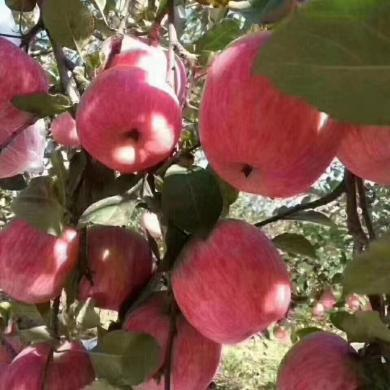apple: (197, 22, 337, 191), (171, 215, 293, 341), (76, 66, 181, 174), (124, 291, 221, 387), (1, 211, 83, 303), (1, 38, 51, 179), (81, 223, 152, 309), (279, 331, 369, 390), (6, 338, 92, 390)
